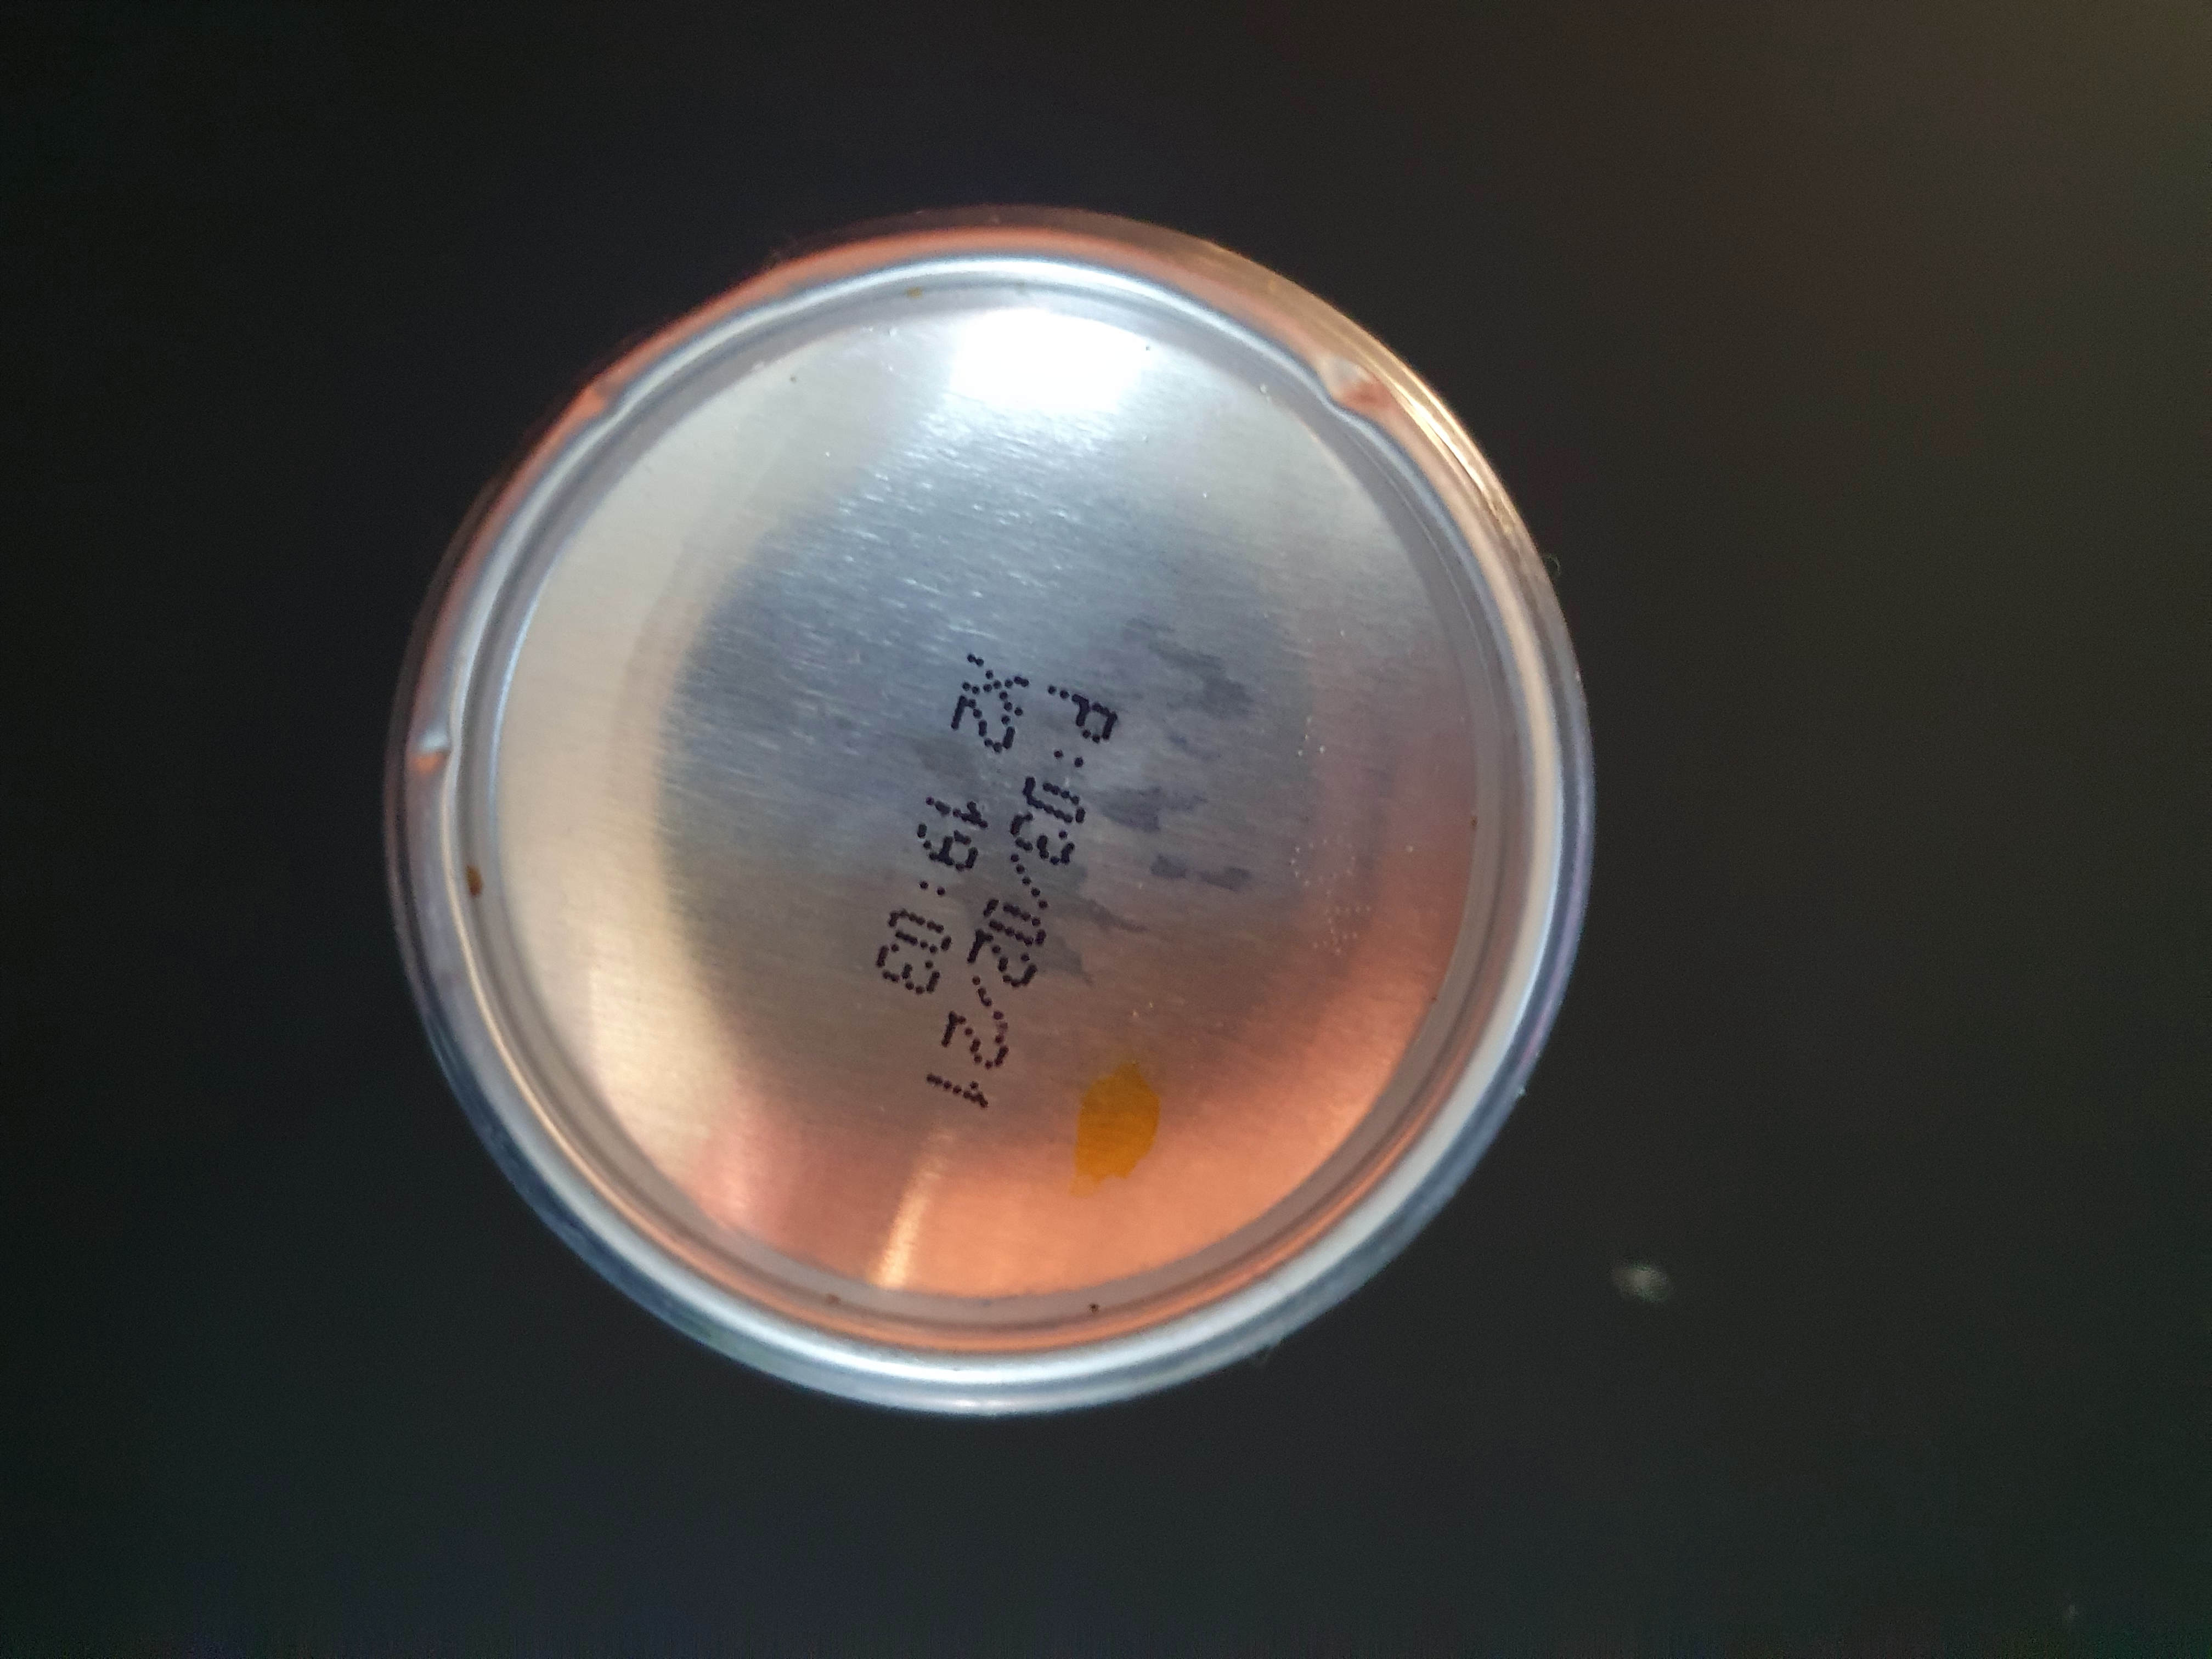metal: (350, 148, 1648, 1446)
